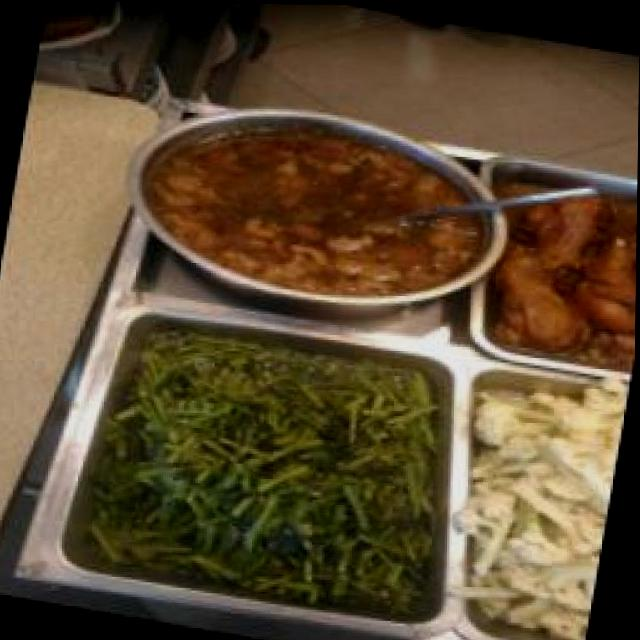water_spinach: (96, 324, 434, 611)
